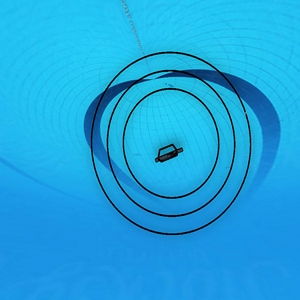circle: (88, 45, 254, 241)
submarine: (154, 143, 187, 162)
